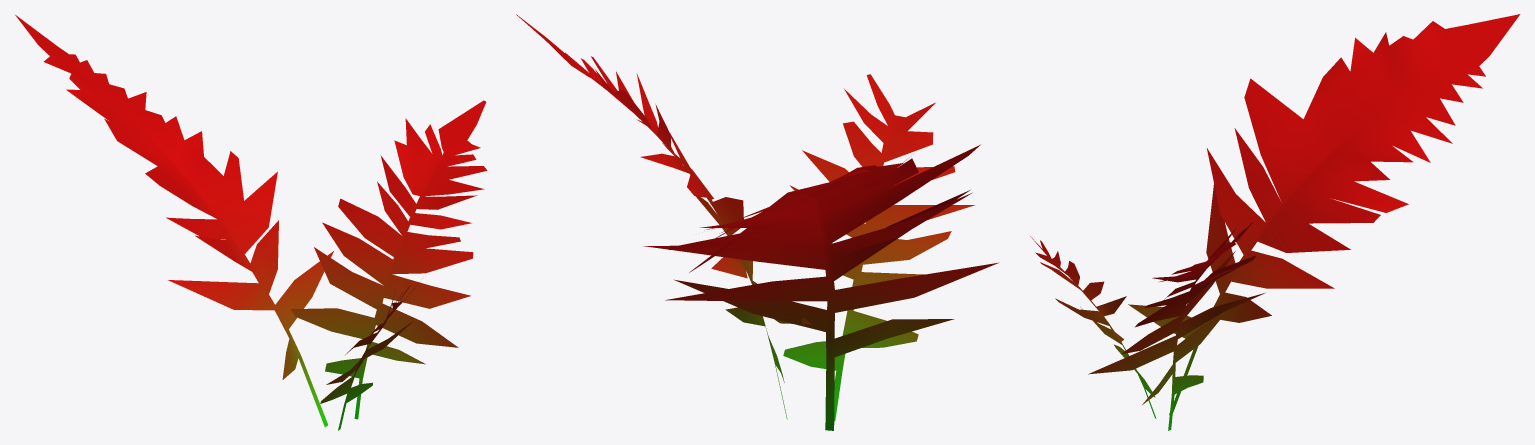
Rendered from Silvery Glade Fern_LOD2_Var5_xf5lebcqx.fbx.
3 views of the same model, side by side, from view 1: azimuth 30°, elevation 25°; view 2: azimuth 150°, elevation 25°; view 3: azimuth 270°, elevation 25° (orthographic). The views are drawn at different scales.
Parts seen in each view (by area): view 1: _74ci_Var5_LOD2; view 2: _74ci_Var5_LOD2; view 3: _74ci_Var5_LOD2.
Part boxes in pixels (box(x1,y1,x2,y2)): _74ci_Var5_LOD2: box(15, 15, 487, 430); _74ci_Var5_LOD2: box(516, 14, 998, 430); _74ci_Var5_LOD2: box(1030, 14, 1520, 430).
Bounding box in the file's own units: 28.8 × 25.86 × 34.85.
